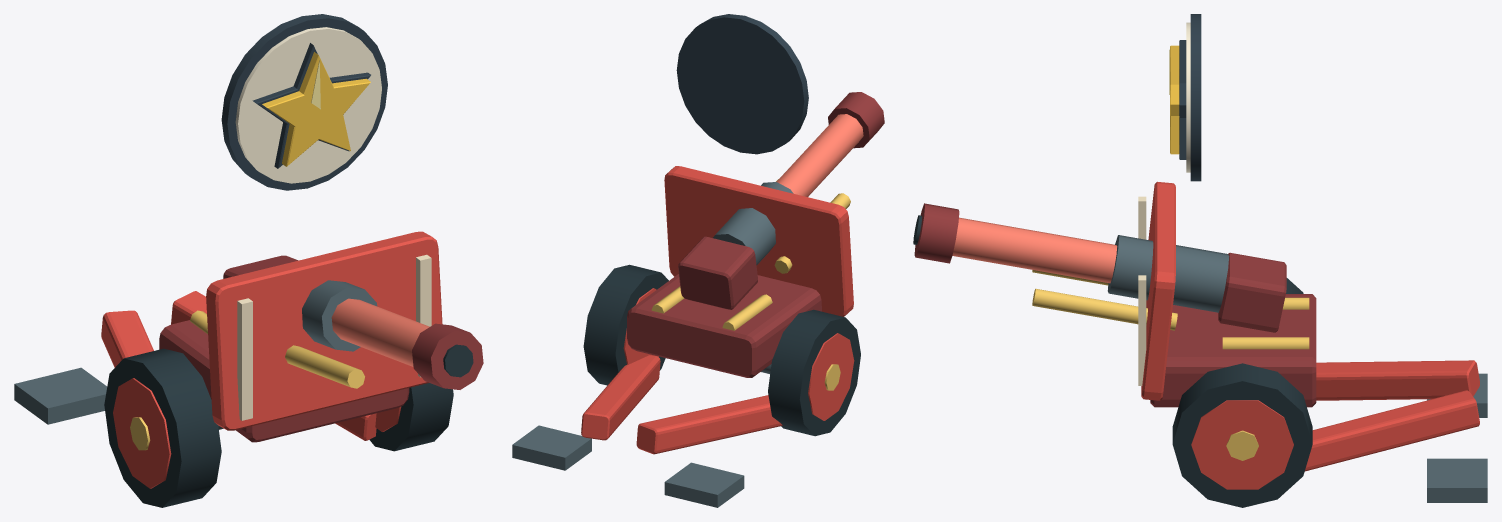
The model's file is artillery.glb.
The picture shows the model from 3 angles, left to right: view 1: azimuth 30°, elevation 25°; view 2: azimuth 150°, elevation 25°; view 3: azimuth 270°, elevation 25°; orthographic projection. The views are drawn at different scales.
Visible parts, largest first — view 1: carriage-team, carriage-rubber, team-badge-plate, team-badge-outline, team-badge-gold, carriage-dark, gun-light, carriage-metal, gun-dark, carriage-cream, gun-metal, gun-gold (+2 smaller); view 2: carriage-team, team-badge-outline, carriage-rubber, carriage-dark, gun-dark, carriage-metal, gun-light, gun-metal, carriage-gold, gun-gold; view 3: carriage-team, carriage-rubber, carriage-dark, gun-dark, gun-light, gun-metal, carriage-metal, team-badge-outline, gun-gold, carriage-gold, carriage-cream, team-badge-gold (+1 smaller).
Part boxes in pixels (box(x1,y1,x2,y2)): carriage-team: box(101, 231, 442, 488); carriage-rubber: box(104, 348, 453, 507); team-badge-plate: box(235, 27, 381, 183); team-badge-outline: box(221, 14, 387, 190); team-badge-gold: box(262, 52, 370, 166); carriage-dark: box(159, 320, 409, 442); gun-light: box(331, 298, 429, 366); carriage-metal: box(14, 367, 223, 429); gun-dark: box(223, 255, 483, 389); carriage-cream: box(237, 254, 431, 420); gun-metal: box(302, 280, 377, 351); gun-gold: box(285, 345, 364, 388); carriage-team: box(581, 166, 854, 454); team-badge-outline: box(676, 14, 808, 154); carriage-rubber: box(583, 264, 860, 436); carriage-dark: box(627, 274, 821, 377); gun-dark: box(678, 92, 884, 309); carriage-metal: box(512, 364, 771, 507); gun-light: box(776, 114, 863, 196); gun-metal: box(713, 182, 793, 265); carriage-gold: box(651, 286, 840, 390); gun-gold: box(774, 179, 850, 273); carriage-team: box(1141, 181, 1479, 489); carriage-rubber: box(1172, 278, 1312, 507); carriage-dark: box(1150, 294, 1316, 407); gun-dark: box(914, 203, 1286, 332); gun-light: box(952, 217, 1117, 283); gun-metal: box(1107, 235, 1229, 312); carriage-metal: box(1427, 373, 1487, 502); team-badge-outline: box(1179, 14, 1201, 181); gun-gold: box(1032, 270, 1177, 330); carriage-gold: box(1222, 297, 1309, 460); carriage-cream: box(1138, 196, 1146, 385); team-badge-gold: box(1170, 45, 1179, 154).
Size of the model in its own units: 1.25 by 2.02 by 2.46.
